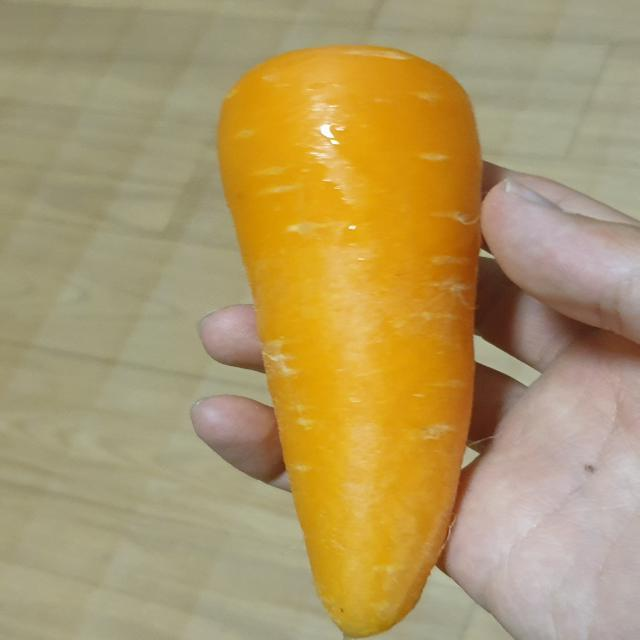carrot: (203, 38, 495, 640)
